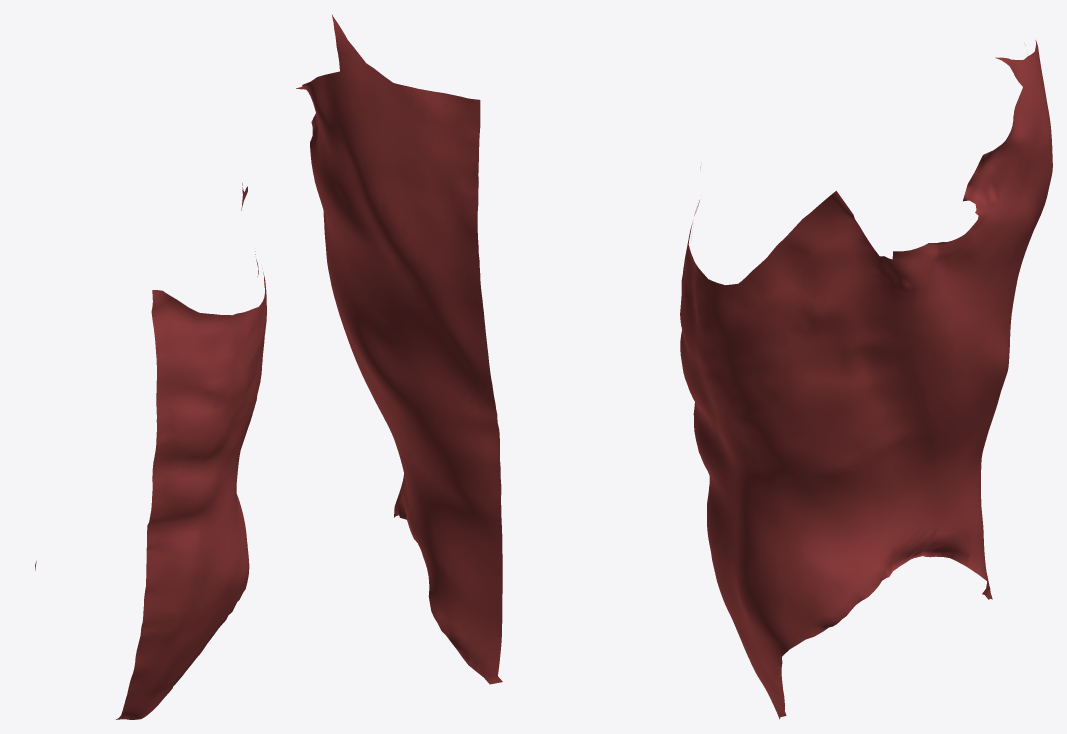
The model's file is investing-abdominal-fascia-l.glb.
The picture shows the model from 3 angles, left to right: view 1: azimuth 30°, elevation 25°; view 2: azimuth 150°, elevation 25°; view 3: azimuth 270°, elevation 25°; orthographic projection. The views are drawn at different scales.
Visible parts, largest first — view 1: Investing abdominal fascia.l; view 2: Investing abdominal fascia.l; view 3: Investing abdominal fascia.l.
Part boxes in pixels (bbox=[...]): Investing abdominal fascia.l: bbox=[35, 183, 266, 719]; Investing abdominal fascia.l: bbox=[296, 15, 502, 684]; Investing abdominal fascia.l: bbox=[680, 40, 1052, 719].
Size of the model in its own units: 0.1708 by 0.5531 by 0.2572.
